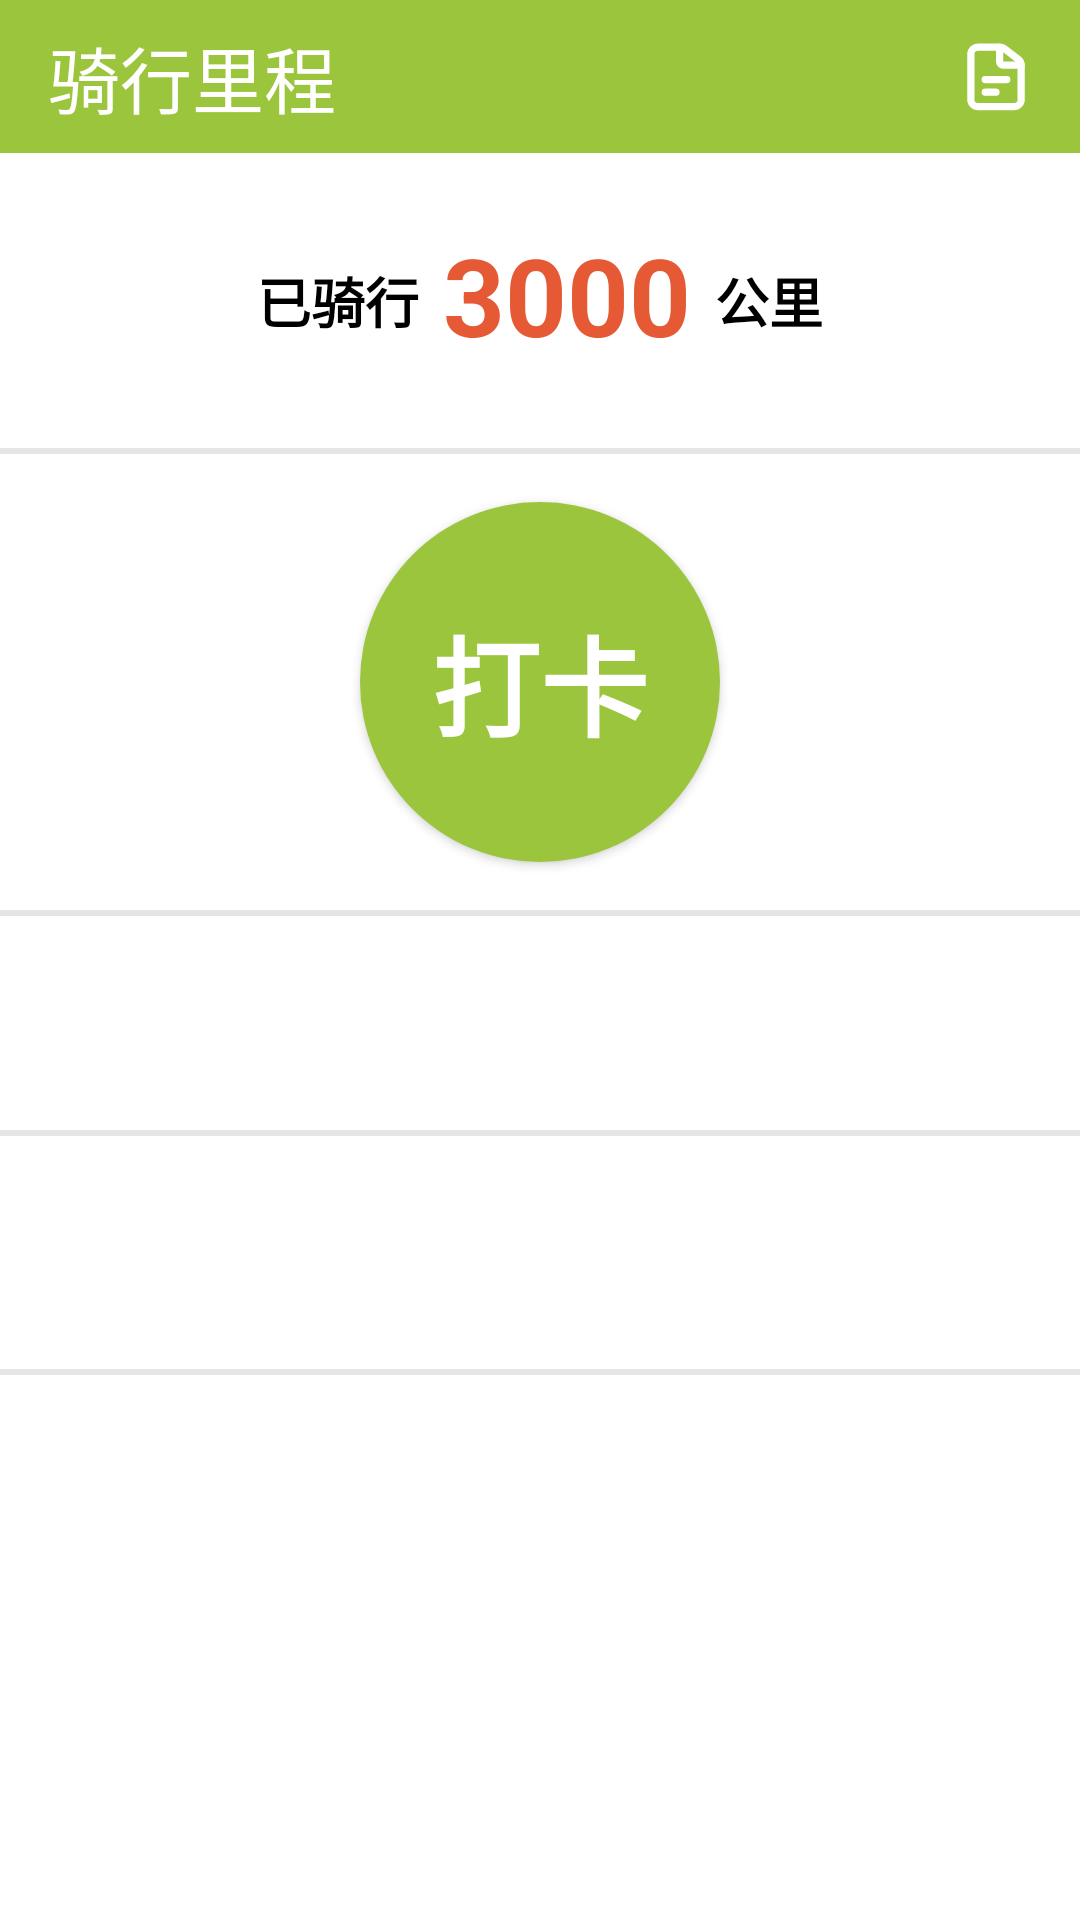

Icons on this 1080px x 1920px Android screen, each with its box as (x1, y1, x2, y2):
all record: (967, 43, 1025, 111)
